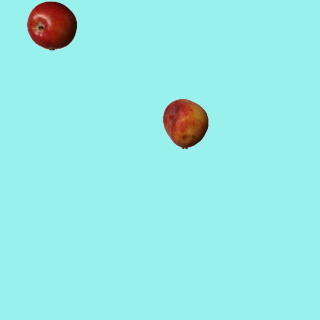Apple Braeburn: (26, 0, 76, 50)
Peach: (160, 98, 210, 148)
